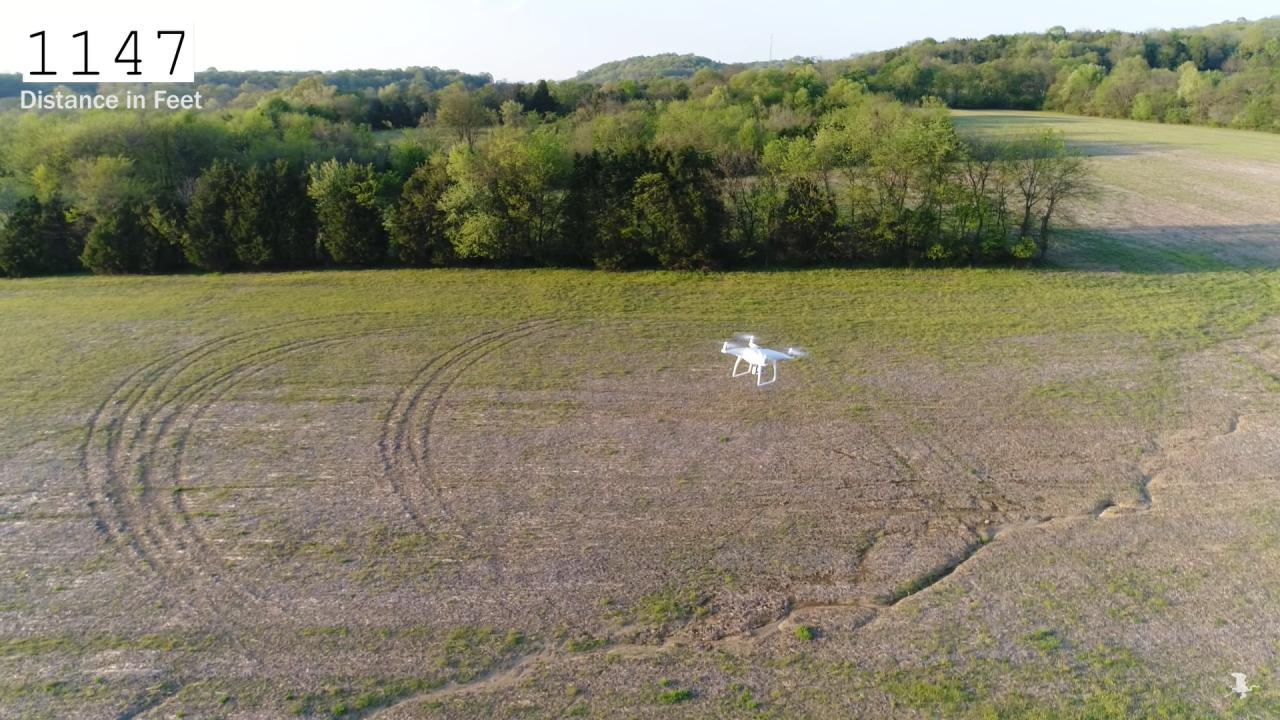Drone: (707, 323, 818, 394)
